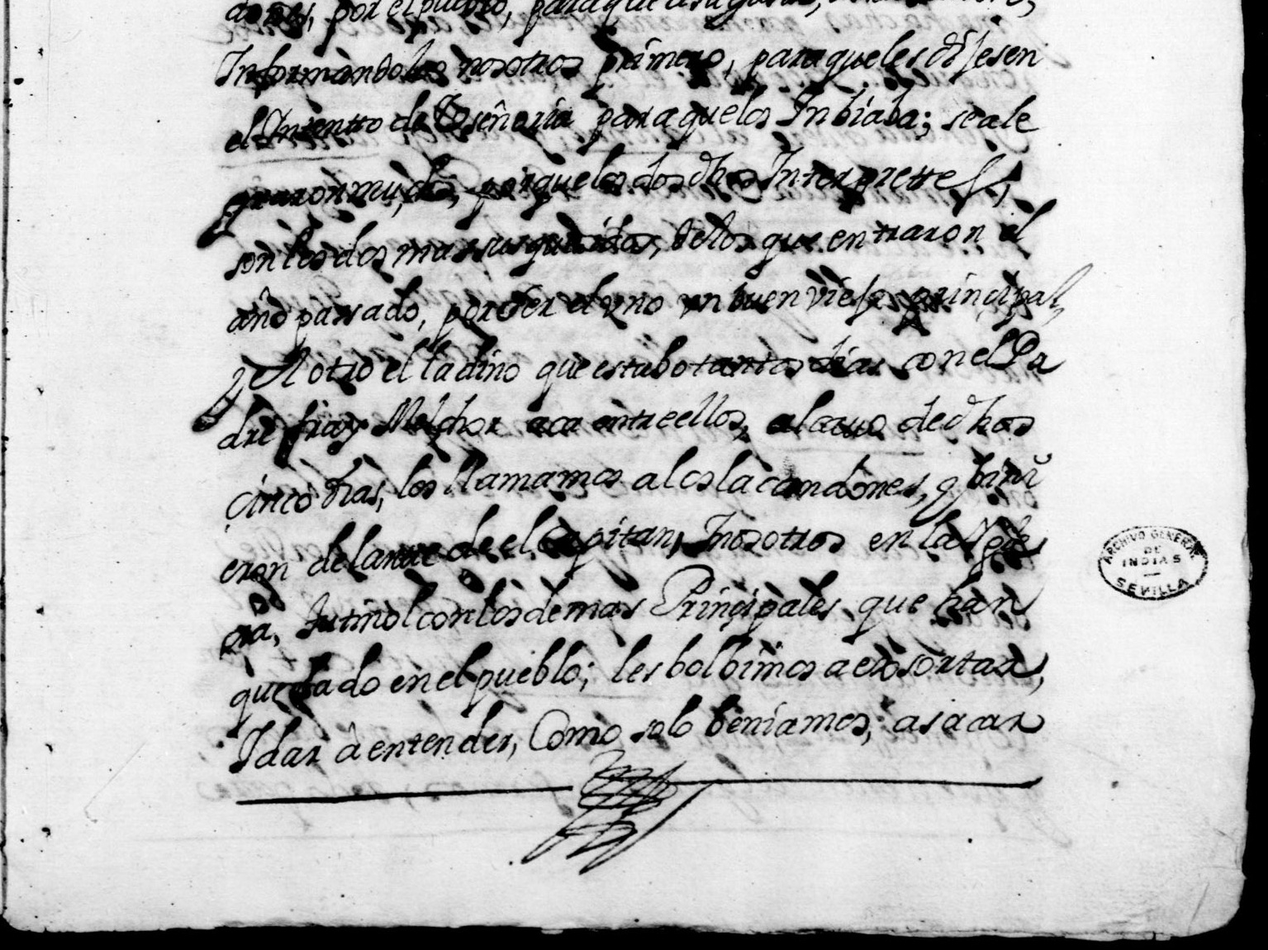lacandon: (715, 449, 930, 500)
